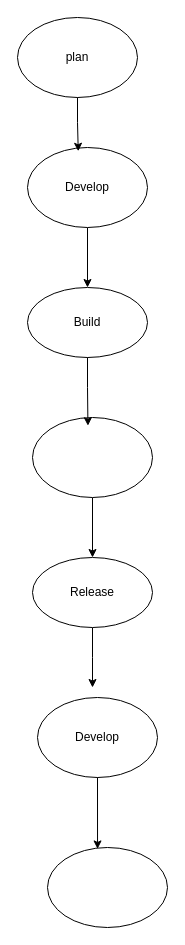
This 185x945 diagram has some shape labels left out. Here are the shapes that lost their labels. From the top down, the centre of each, then its label:
At point 92,457: "Test".
At point 107,887: "Monitor".
